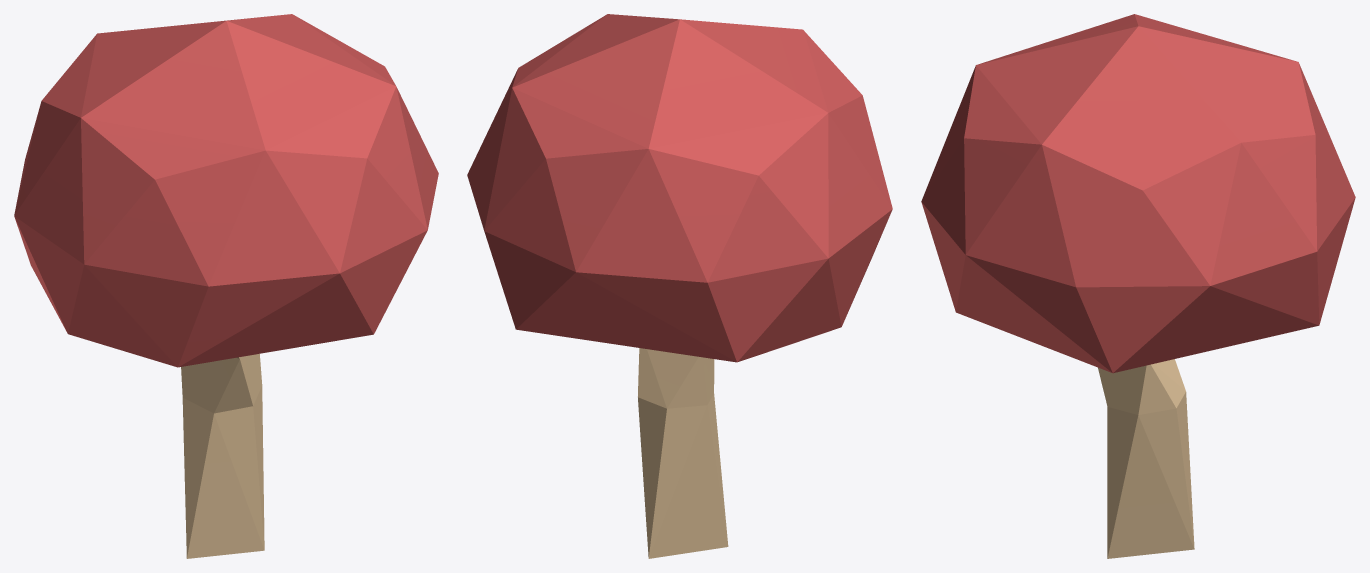
Rendered from Mushroom_03.fbx.
The picture shows the model from 3 angles, left to right: view 1: azimuth 30°, elevation 25°; view 2: azimuth 150°, elevation 25°; view 3: azimuth 270°, elevation 25°; orthographic projection.
Visible parts, largest first — view 1: Mushroom_03; view 2: Mushroom_03; view 3: Mushroom_03.
Boxes of the visible parts, <box> form: Mushroom_03: <box>14,14,438,558</box>; Mushroom_03: <box>467,14,892,558</box>; Mushroom_03: <box>921,14,1355,558</box>.
Size of the model in its own units: 30.9 by 42.75 by 32.25.
